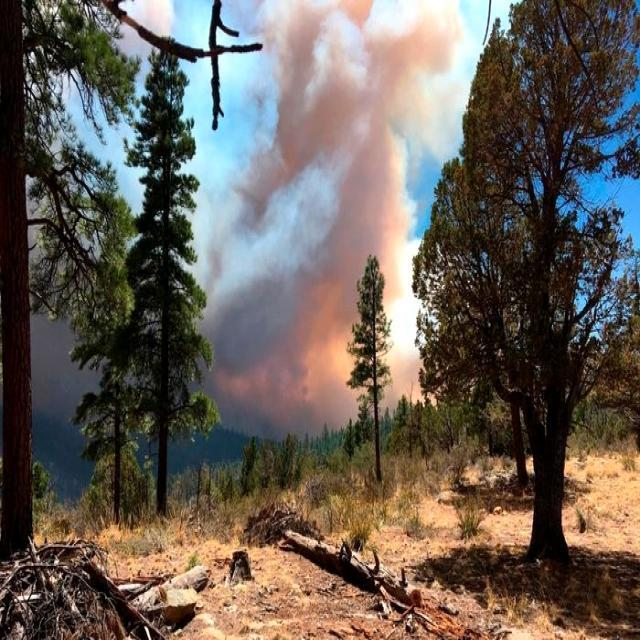Smoke: (190, 0, 503, 433)
